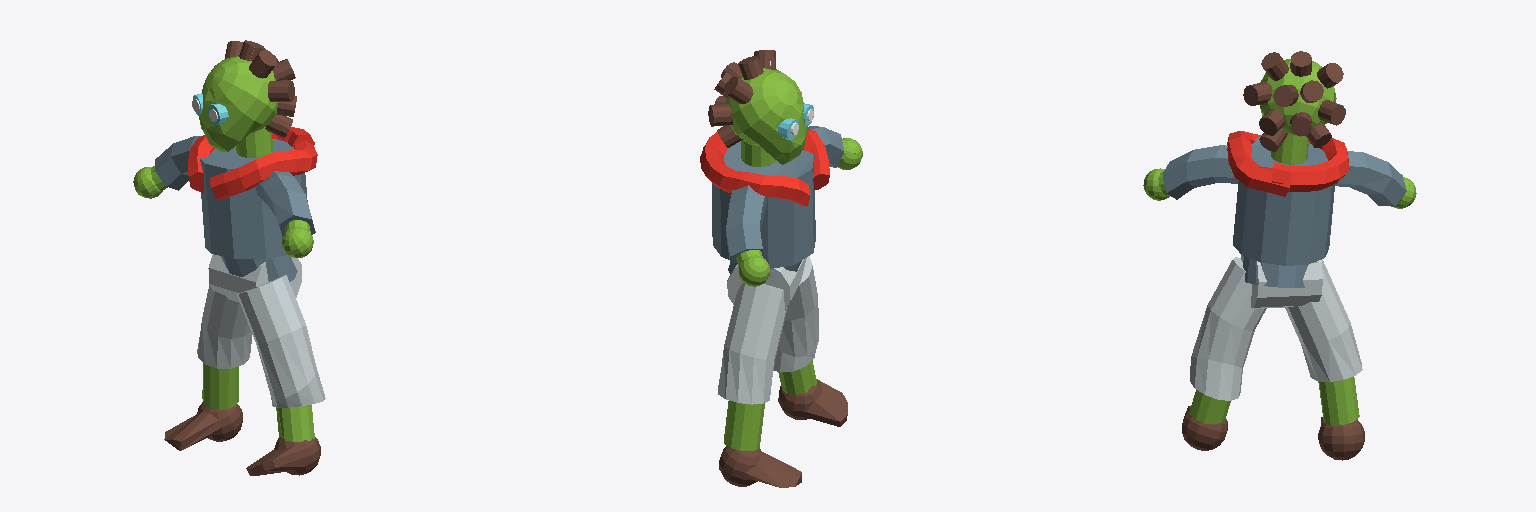
3 views of the same model, side by side, from view 1: azimuth 30°, elevation 25°; view 2: azimuth 150°, elevation 25°; view 3: azimuth 270°, elevation 25° (orthographic).
Parts seen in each view (by area): view 1: Alien_mesh[number redacted]; view 2: Alien_mesh[number redacted]; view 3: Alien_mesh[number redacted].
Boxes of the visible parts, <box> form: Alien_mesh[number redacted]: <box>133,40,325,475</box>; Alien_mesh[number redacted]: <box>700,50,862,487</box>; Alien_mesh[number redacted]: <box>1143,51,1416,460</box>.
Bounding box in the file's own units: 1.92 × 6.26 × 3.78.
1 materials, 1 textured.